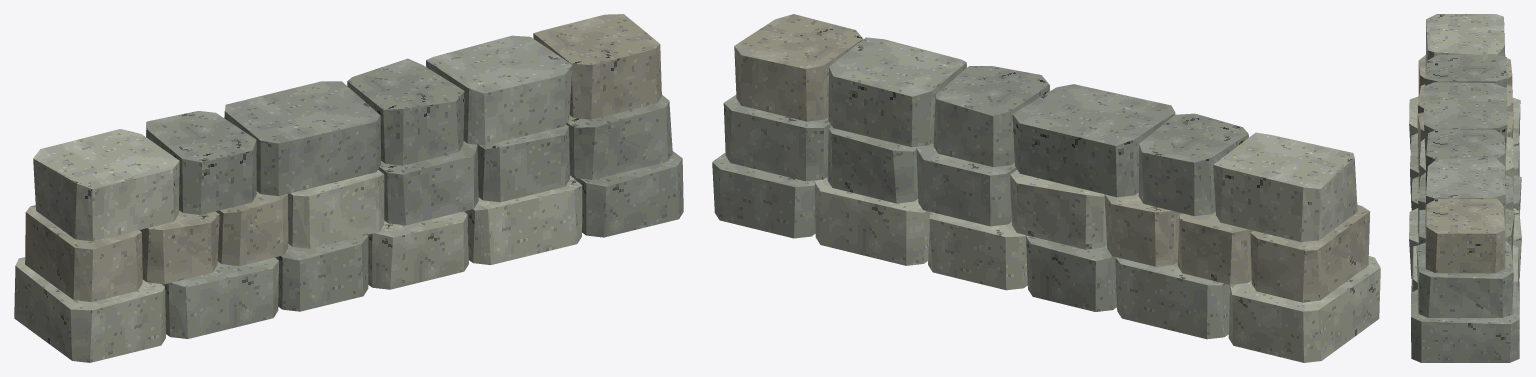
The model's file is holm_arrival_wall_oldschool_v1.glb.
3 renders of one model, left to right at view 1: azimuth 30°, elevation 25°; view 2: azimuth 150°, elevation 25°; view 3: azimuth 270°, elevation 25°, orthographic. The views are drawn at different scales.
Visible parts, largest first — view 1: LandingGardenWall; view 2: LandingGardenWall; view 3: LandingGardenWall.
Part boxes in pixels (x1=…): LandingGardenWall: x1=14, y1=14, x2=683, y2=362; LandingGardenWall: x1=712, y1=14, x2=1380, y2=362; LandingGardenWall: x1=1409, y1=14, x2=1521, y2=362.
Size of the model in its own units: 3 by 0.7779 by 0.6251.
4 materials, 4 textured.
